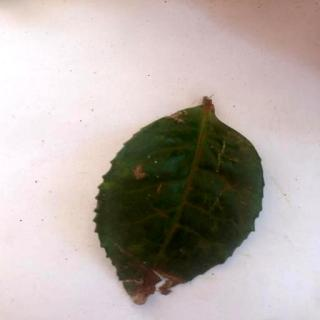Brown Blight: (94, 98, 266, 306)
